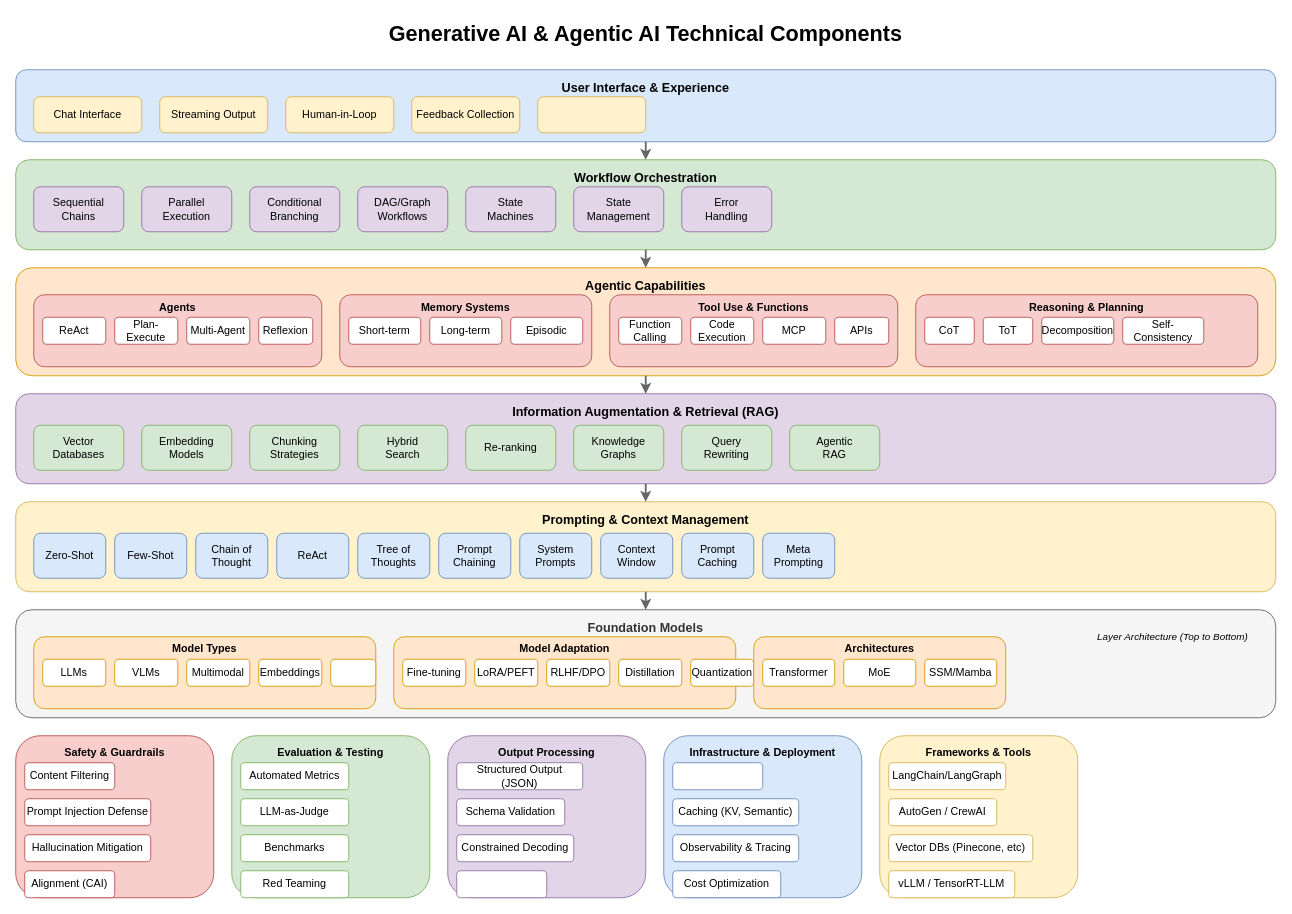
Image size: 1292x914. Some labels were removed from this diagram. The centre of each missing label's shape, as x and y in pixels:
"Approval Workflows" goes at point (591, 114).
"Model Serving" goes at point (717, 776).
"Speech" goes at point (353, 672).
"Streaming" goes at point (501, 884).
